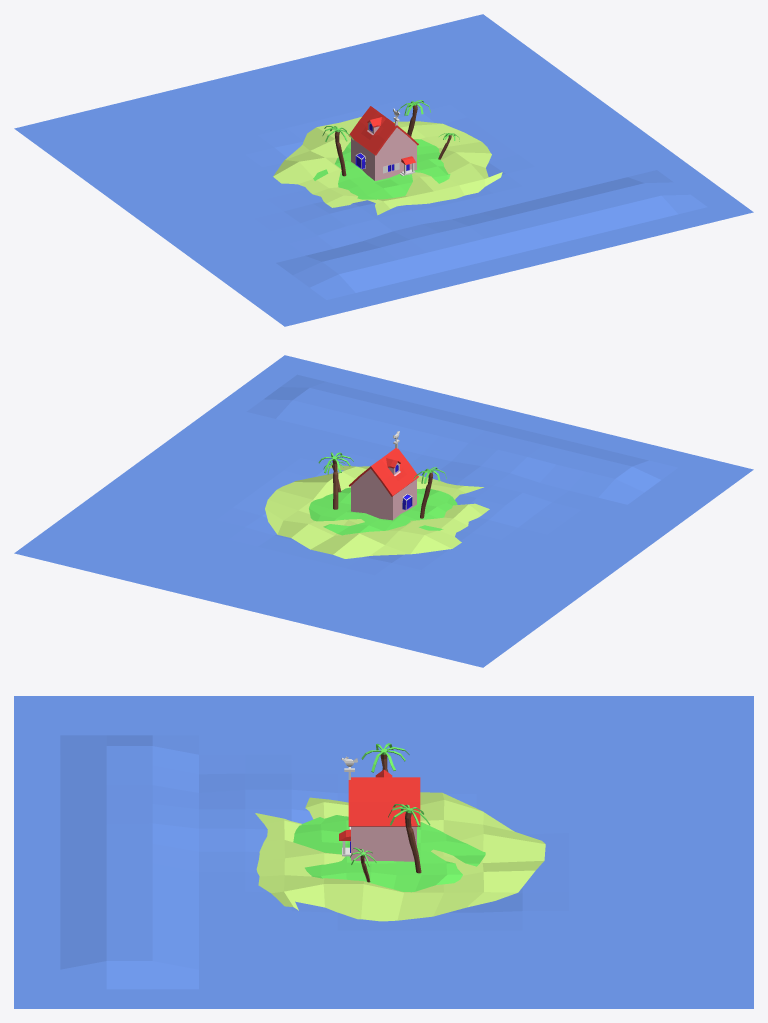
Rendered from kamehouse.fbx.
The picture shows the model from 3 angles, top to bottom: view 1: azimuth 30°, elevation 25°; view 2: azimuth 150°, elevation 25°; view 3: azimuth 270°, elevation 25°; orthographic projection. The views are drawn at different scales.
Parts seen in each view (by area): view 1: Plane.002, Plane.001, Cube, Plane; view 2: Plane.002, Plane.001, Cube, Plane; view 3: Plane.002, Plane.001, Plane, Cube, Cylinder.001.
Part boxes in pixels (left/top/right/bottom): Plane.002: left=14, top=14, right=753, bottom=326; Plane.001: left=273, top=117, right=502, bottom=215; Cube: left=348, top=106, right=418, bottom=180; Plane: left=313, top=139, right=450, bottom=199; Plane.002: left=14, top=355, right=753, bottom=667; Plane.001: left=265, top=465, right=489, bottom=558; Cube: left=349, top=431, right=418, bottom=520; Plane: left=309, top=487, right=457, bottom=535; Plane.002: left=14, top=696, right=753, bottom=1008; Plane.001: left=255, top=792, right=545, bottom=921; Plane: left=293, top=815, right=485, bottom=892; Cube: left=339, top=756, right=420, bottom=861; Cylinder.001: left=388, top=804, right=430, bottom=873.
Bounding box in the file's own units: 2233 × 364 × 2233.
